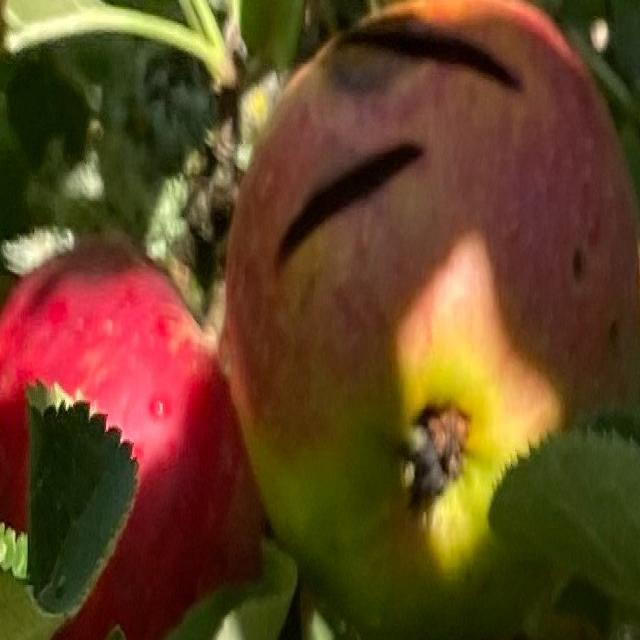Apples: (227, 0, 639, 638), (0, 235, 271, 638)
